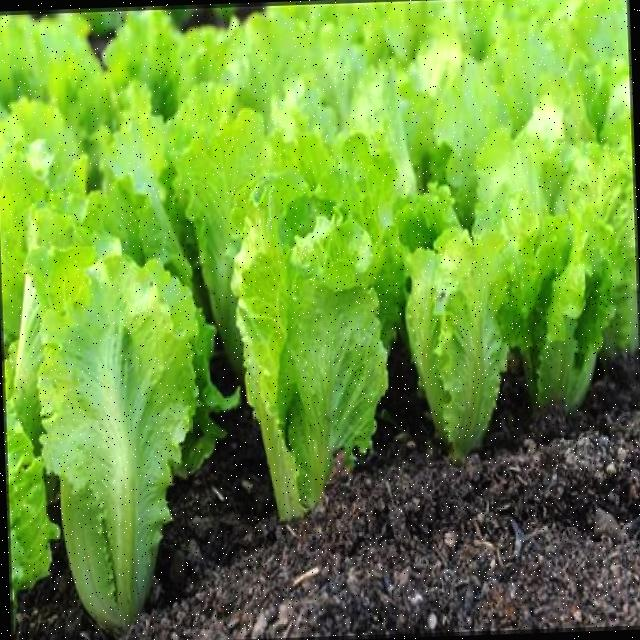healthy: (32, 258, 208, 632), (227, 197, 390, 515), (400, 237, 510, 452), (517, 203, 618, 403)
